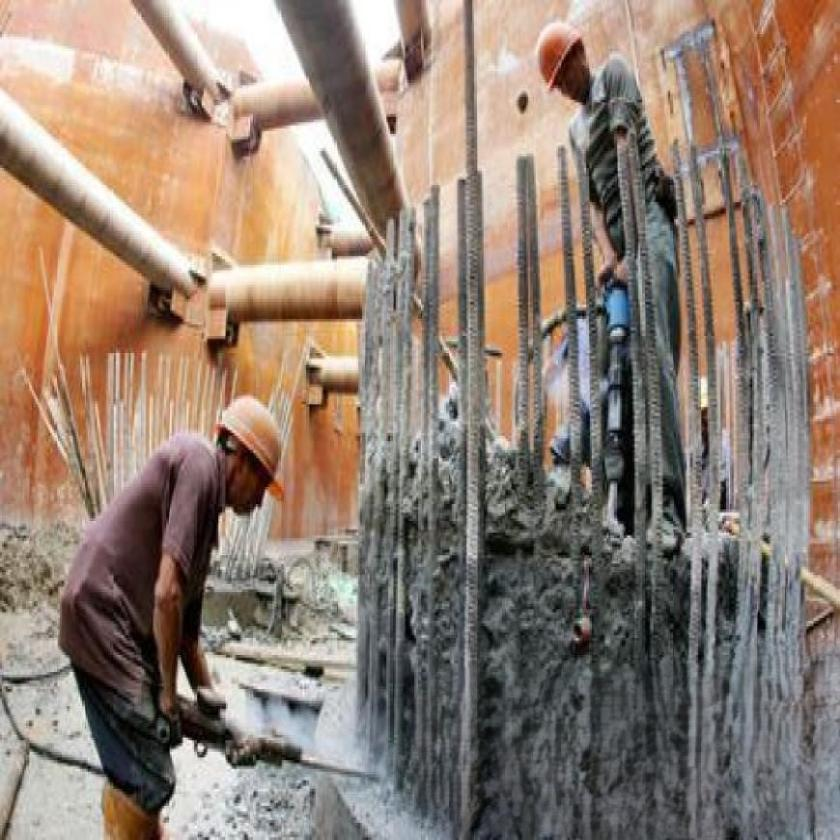Con_casco: (219, 386, 285, 511), (534, 19, 595, 110)
